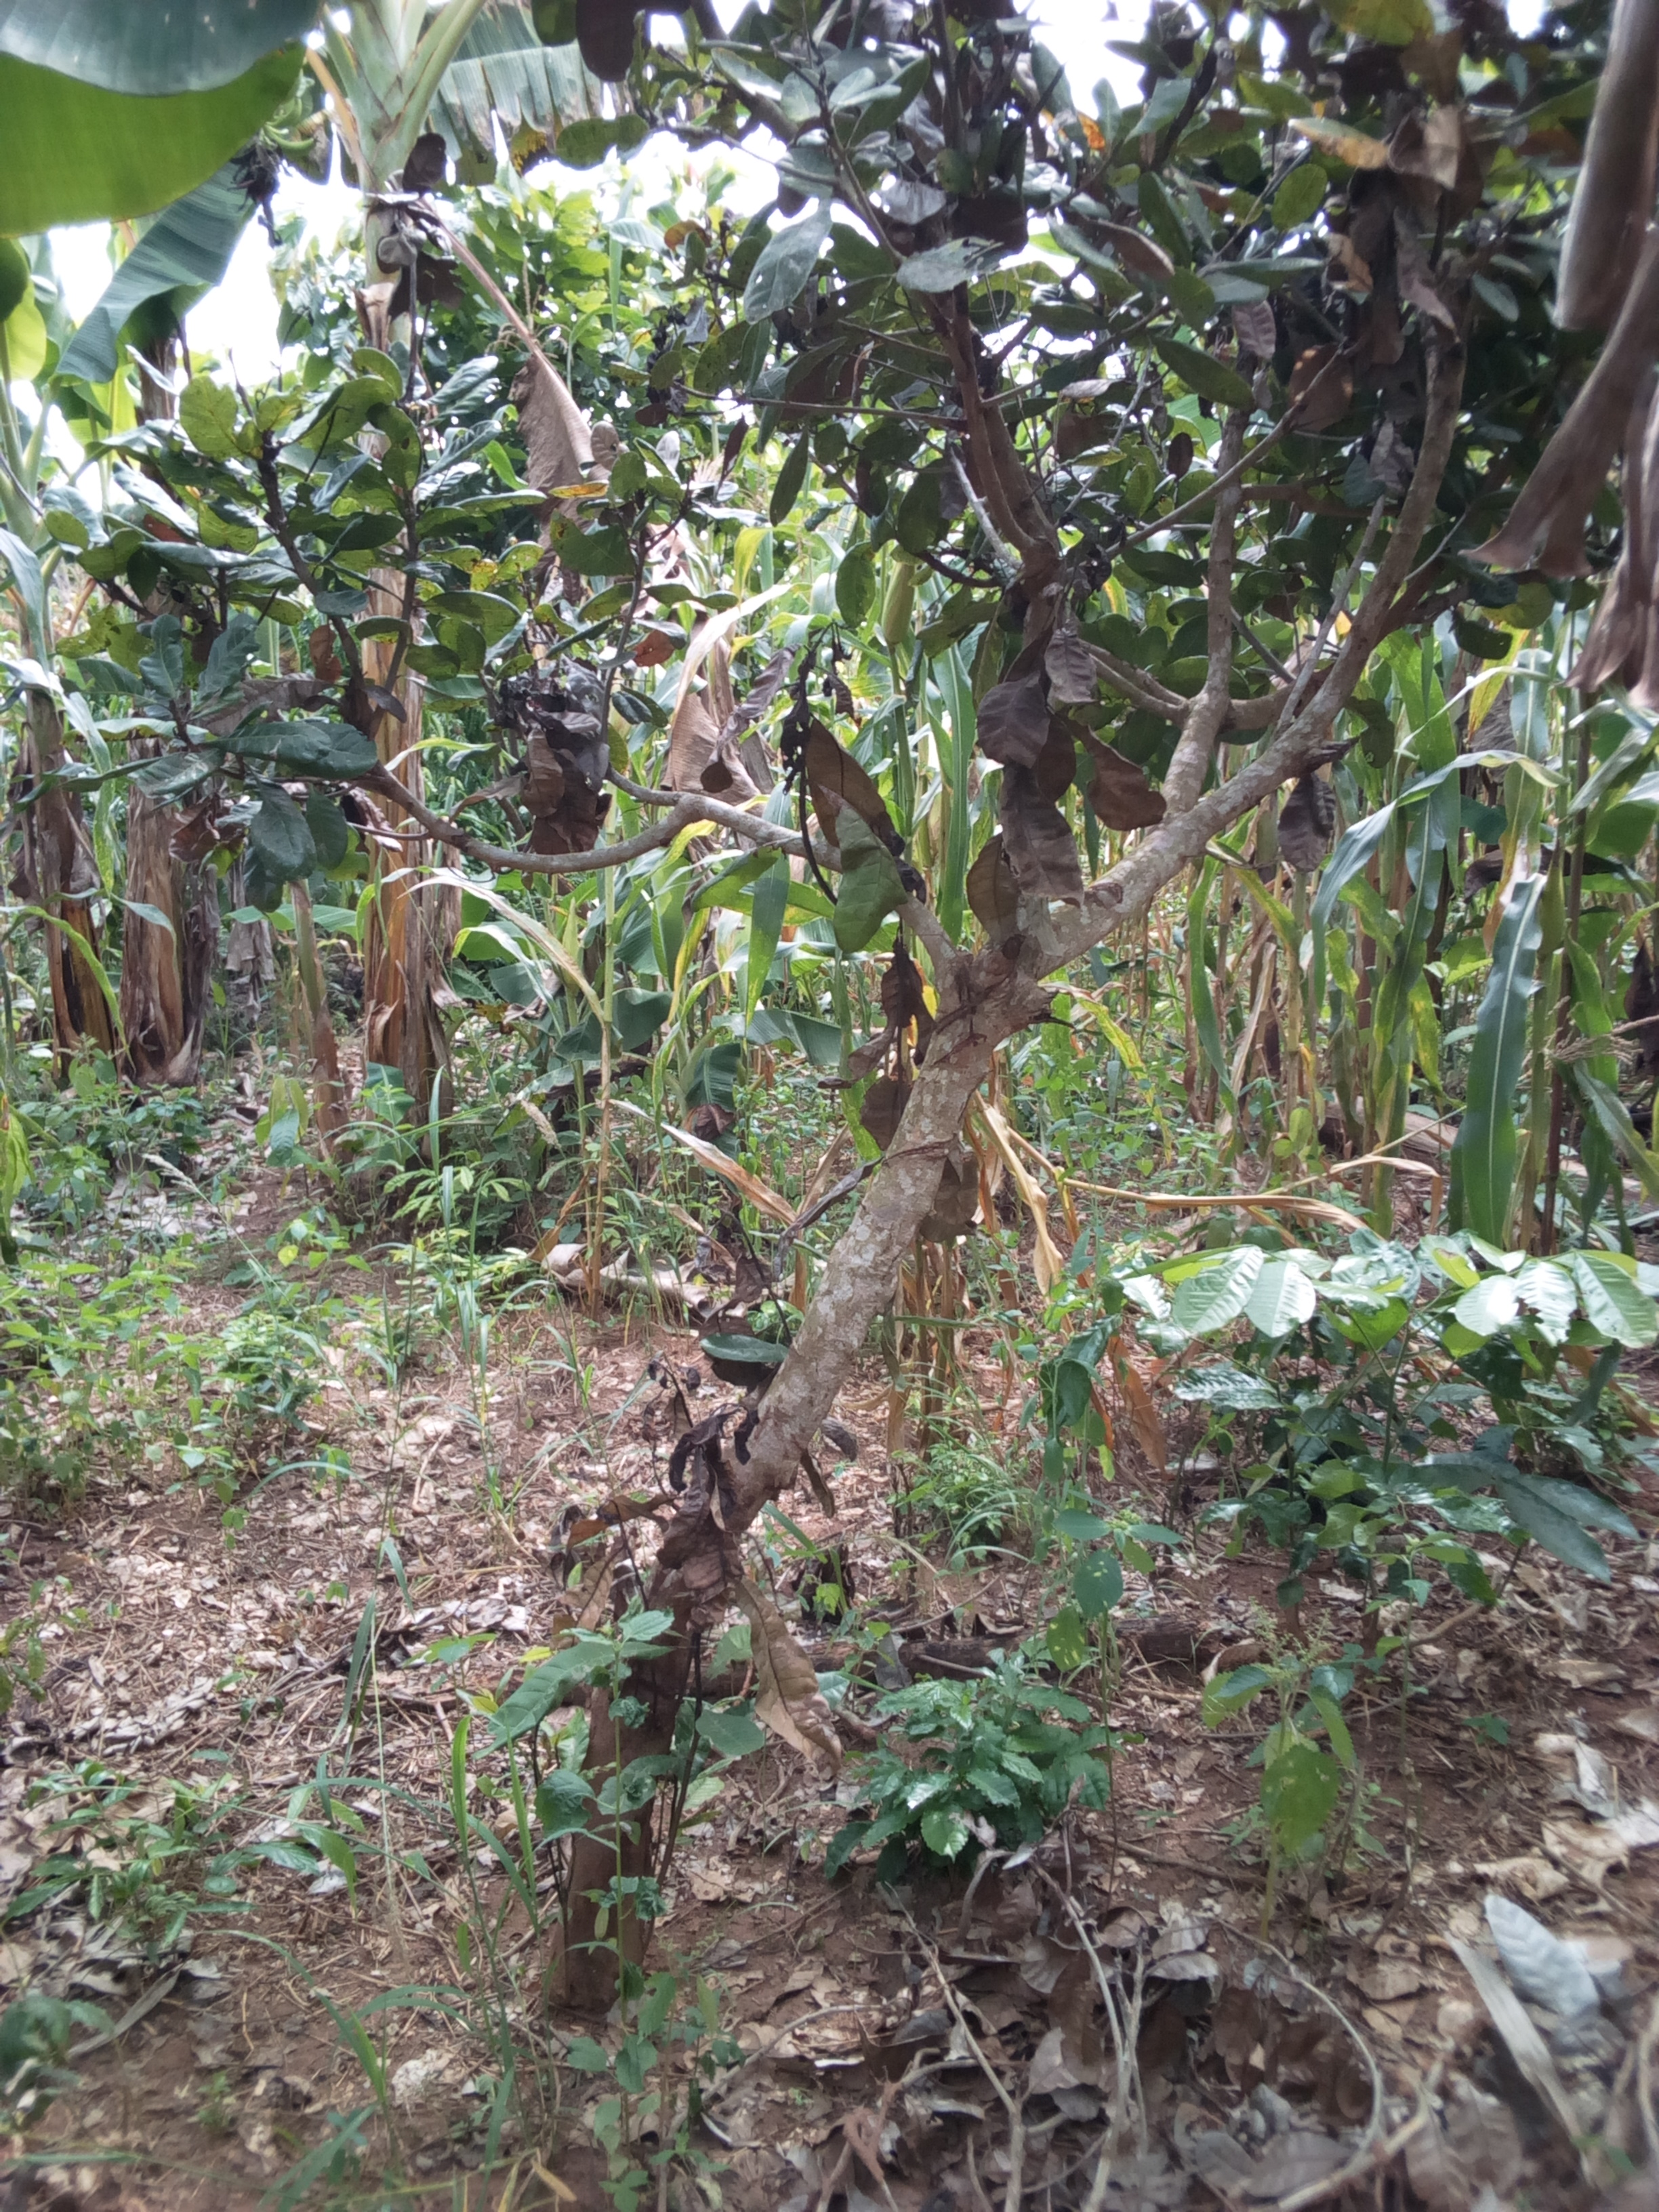Dessèchement des bourgeons: (957, 538, 1126, 775), (493, 669, 622, 855)
